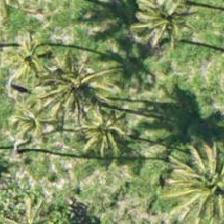coconut_tree: (22, 40, 112, 130), (123, 0, 213, 62), (163, 140, 223, 223)
